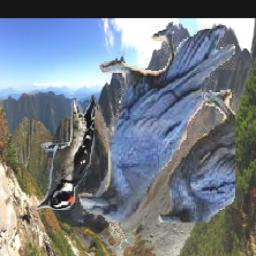Crow: (76, 21, 235, 223)
Sparrow: (107, 219, 134, 250)
Woodpecker: (37, 101, 98, 211)
